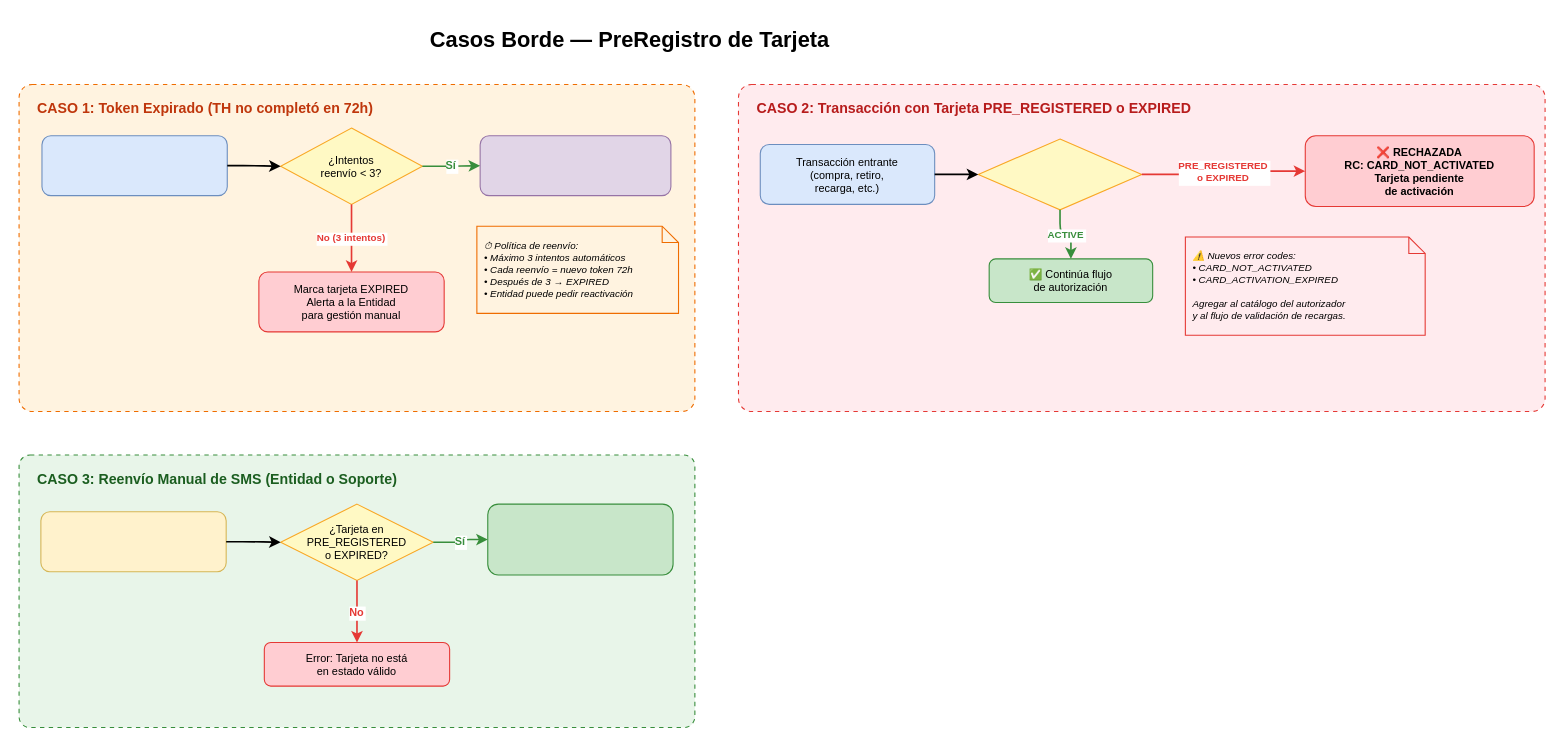
This 1564x747 diagram has some shape labels left out. Here are the shapes that lost their labels. From the top down, the box of each, then its label:
(41, 135, 227, 196): CronJob diario detecta tarjetas PRE_REGISTERED con token expirado
(479, 135, 671, 196): Genera nuevo token (72h) Reenvía SMS Incrementa contador
(977, 138, 1142, 210): Card Validator: ¿status == ACTIVE?
(40, 511, 226, 572): Entidad o Soporte: POST /cards/{id}/ resend-activation
(487, 503, 673, 575): Genera nuevo token Reenvía SMS Resetea contador Estado → PRE_REGISTERED
